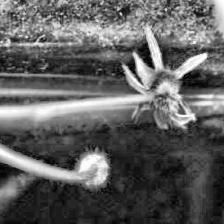Gray Mold: (122, 26, 207, 130)
